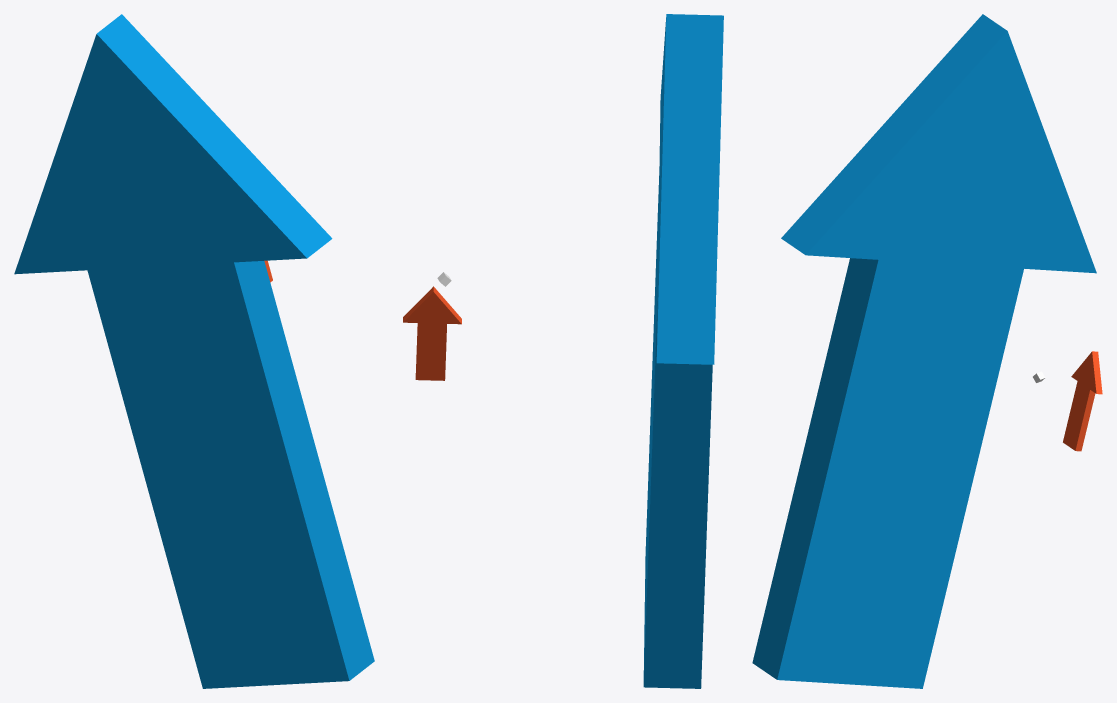
Rendered from arrow_unused.fbx.
3 renders of one model, left to right at view 1: azimuth 30°, elevation 25°; view 2: azimuth 150°, elevation 25°; view 3: azimuth 270°, elevation 25°, orthographic. The views are drawn at different scales.
Visible parts, largest first — view 1: group_987083970; view 2: group_987083970; view 3: group_987083970.
Part boxes in pixels (bbox=[...]): group_987083970: bbox=[14, 14, 374, 688]; group_987083970: bbox=[403, 14, 723, 688]; group_987083970: bbox=[752, 14, 1102, 688].
Size of the model in its own units: 272 by 637 by 321.
